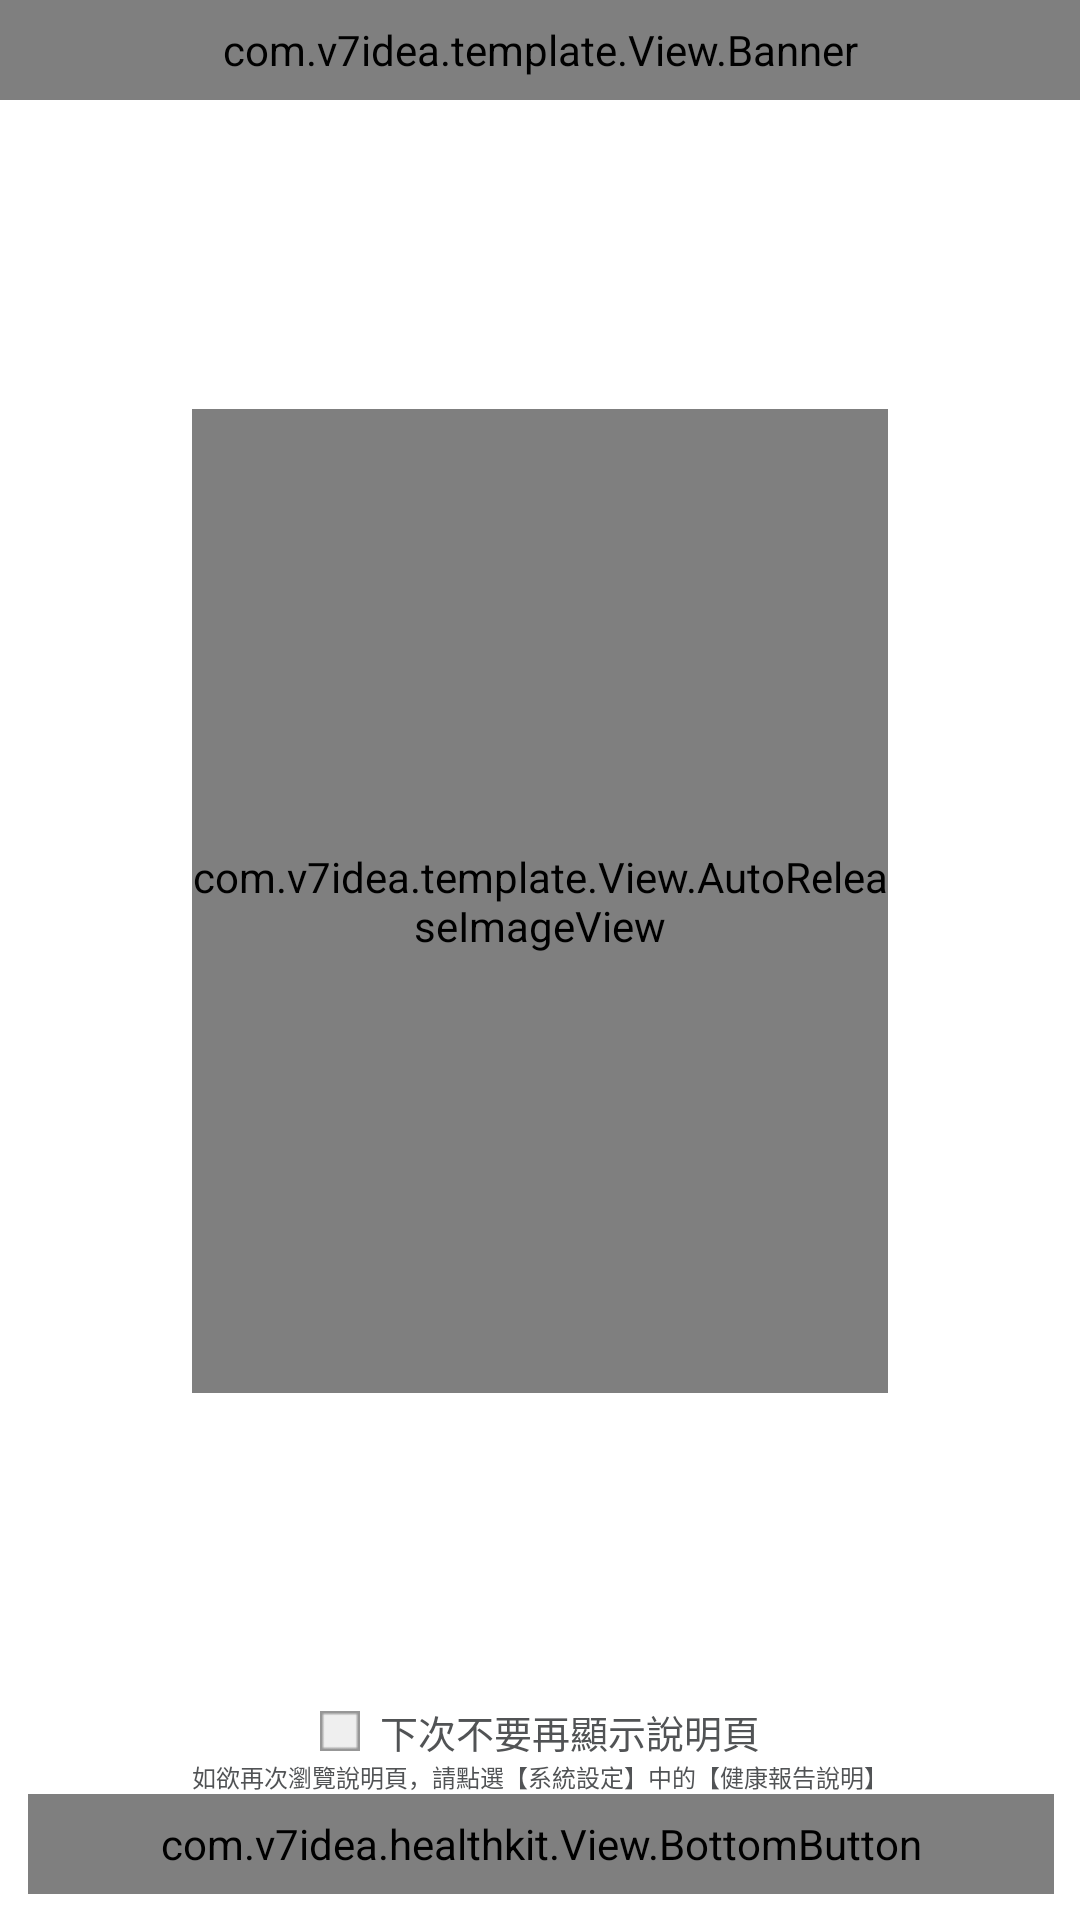

Locate icon controls on the screen. Image size 1080×1920, boxes as (x1, y1, x2, y2).
check box: (320, 1711, 360, 1751)
